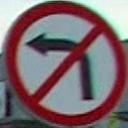NoVirarEsquerda: (7, 4, 128, 128)
